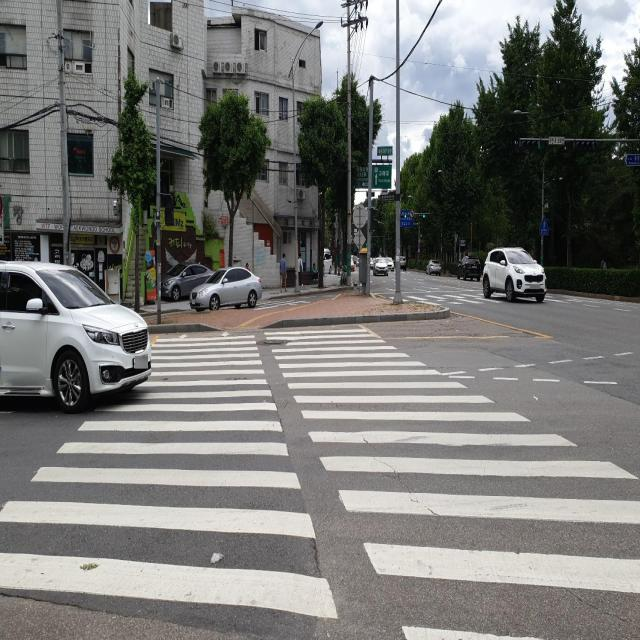횡단보도: (0, 327, 640, 640), (396, 290, 608, 309)
